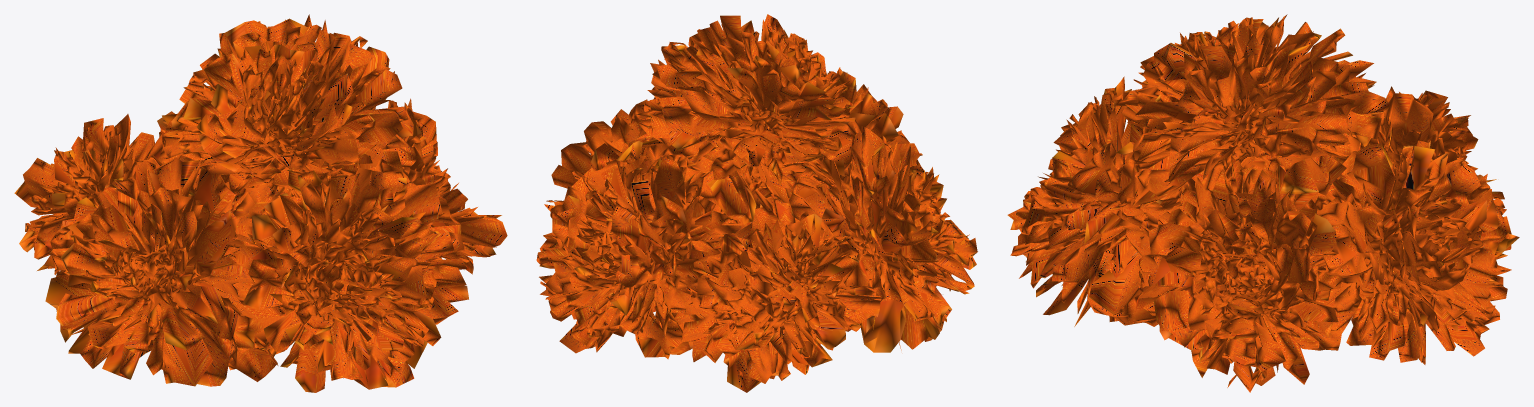
The model's file is marigolds.glb.
The picture shows the model from 3 angles, left to right: view 1: azimuth 30°, elevation 25°; view 2: azimuth 150°, elevation 25°; view 3: azimuth 270°, elevation 25°; orthographic projection. The views are drawn at different scales.
Parts seen in each view (by area): view 1: geometry_0; view 2: geometry_0; view 3: geometry_0.
Part boxes in pixels (<box>): geometry_0: <box>14,14,507,392</box>; geometry_0: <box>536,14,977,392</box>; geometry_0: <box>1007,14,1519,392</box>.
Bounding box in the file's own units: 1.86 × 1.13 × 1.77.
1 material, 1 textured.
